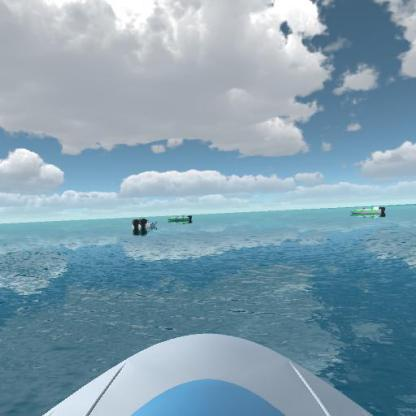usv0: (348, 201, 388, 222), (166, 211, 195, 226)
usv1: (130, 214, 160, 237)
